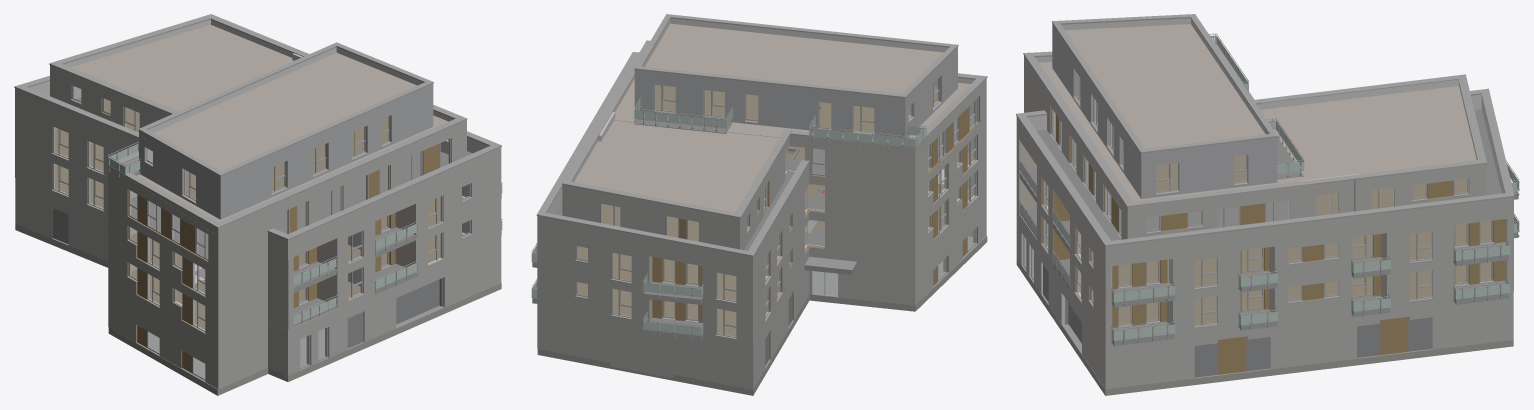
File: uhland18.glb
3 renders of one model, left to right at view 1: azimuth 30°, elevation 25°; view 2: azimuth 150°, elevation 25°; view 3: azimuth 270°, elevation 25°, orthographic. The views are drawn at different scales.
Visible parts, largest first — view 1: world; view 2: world; view 3: world.
Boxes of the visible parts, bbox=[...] form: world: bbox=[14, 14, 502, 395]; world: bbox=[531, 14, 987, 395]; world: bbox=[1016, 14, 1519, 395].
Bounding box in the file's own units: 28.67 × 16.37 × 34.35.
